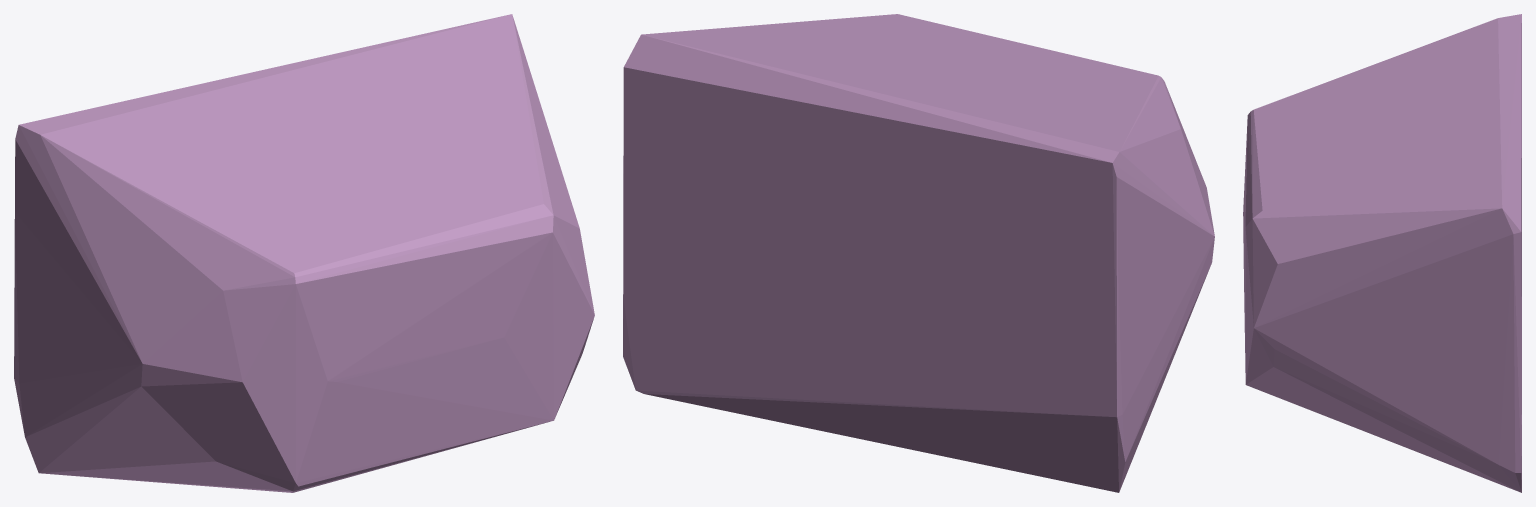
The model's file is testingTool_brake_dynamometer_a01.glb.
3 renders of one model, left to right at view 1: azimuth 30°, elevation 25°; view 2: azimuth 150°, elevation 25°; view 3: azimuth 270°, elevation 25°, orthographic. The views are drawn at different scales.
Visible parts, largest first — view 1: geometry_0; view 2: geometry_0; view 3: geometry_0.
Boxes of the visible parts, <box> form: geometry_0: <box>14,14,594,492</box>; geometry_0: <box>623,14,1214,492</box>; geometry_0: <box>1243,14,1521,492</box>.
Bounding box in the file's own units: 0.4799 × 0.3221 × 0.2819.
